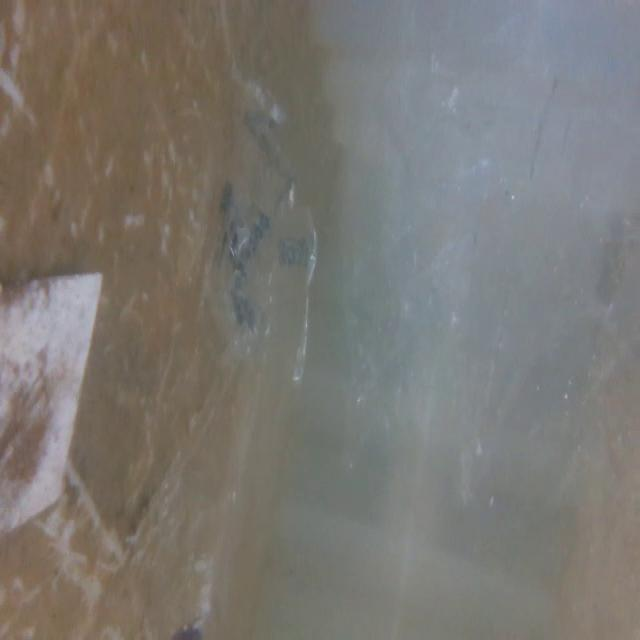metal: (0, 266, 106, 558)
plastic bags: (350, 0, 640, 521), (166, 48, 318, 396)
plastic bottle: (144, 439, 255, 640)
